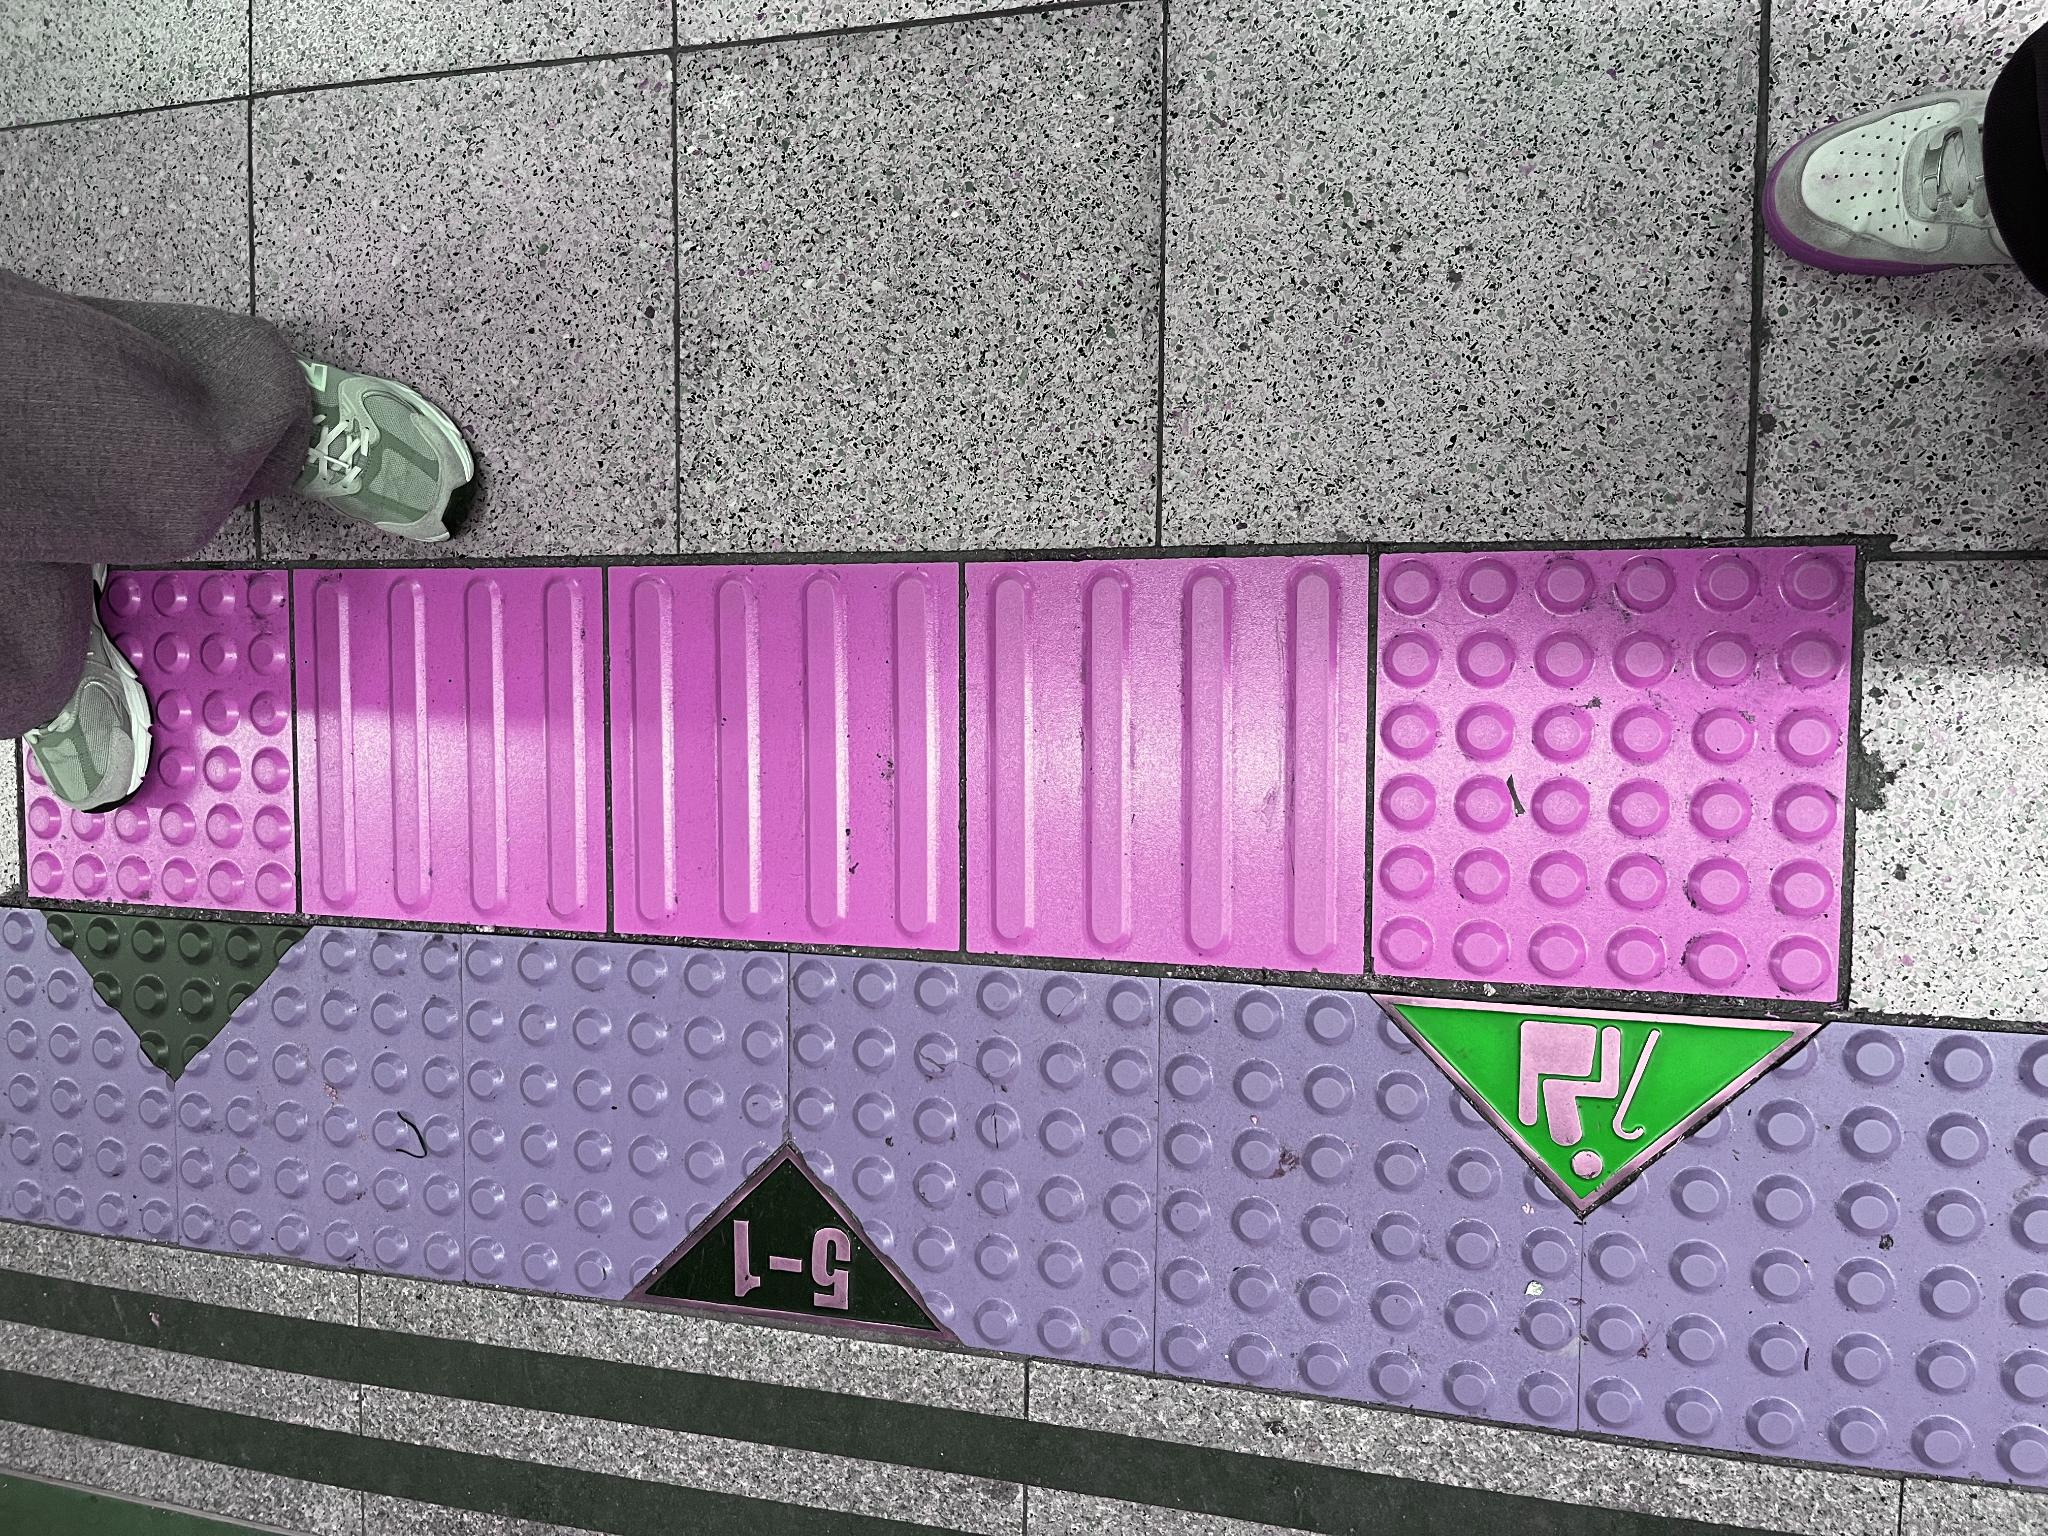Stop block normal: (553, 1373, 984, 1536)
Straight block normal: (563, 966, 980, 1363), (587, 610, 974, 957), (608, 295, 968, 602)
